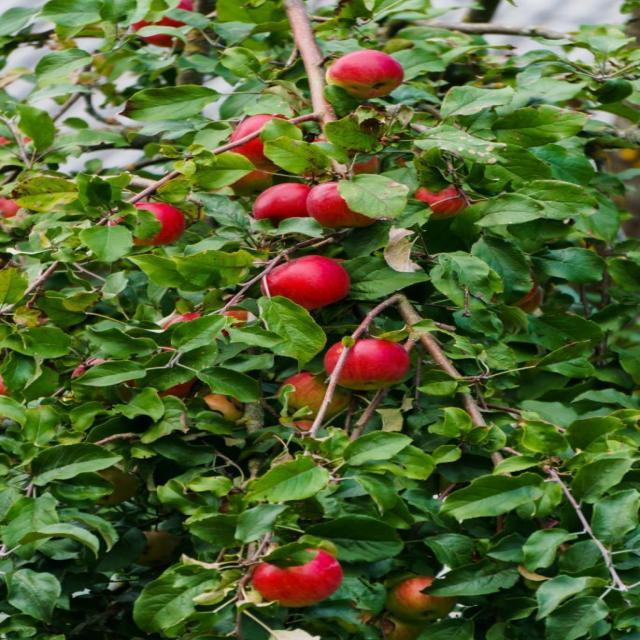Red Apple: (265, 551, 343, 605), (328, 341, 405, 391), (269, 259, 346, 308), (232, 115, 291, 178), (331, 51, 405, 96), (313, 181, 378, 228), (289, 374, 351, 421), (121, 204, 186, 244), (257, 183, 315, 221), (136, 3, 188, 43), (395, 581, 455, 615), (339, 136, 382, 173), (74, 356, 114, 392), (199, 391, 244, 421), (500, 276, 540, 308), (173, 312, 212, 343), (422, 186, 463, 215), (222, 305, 257, 338), (372, 609, 409, 640), (162, 373, 197, 402), (1, 192, 22, 221), (3, 130, 33, 150), (1, 370, 18, 396)
